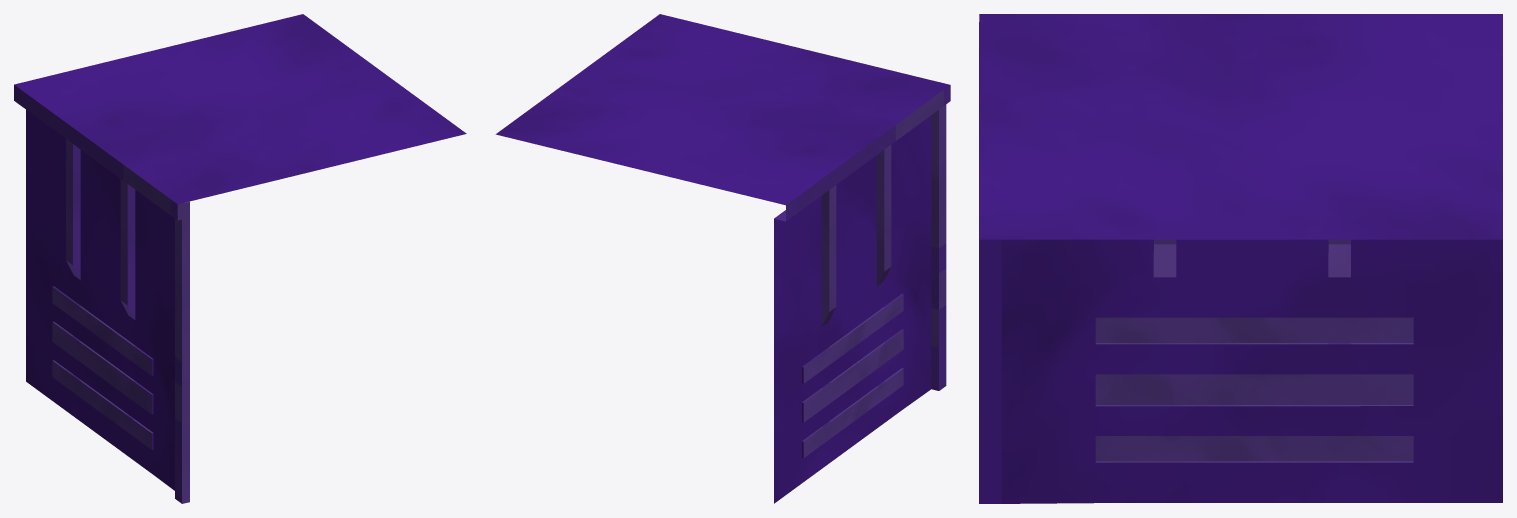
File: SM_Studio-Gate.fbx
The picture shows the model from 3 angles, left to right: view 1: azimuth 30°, elevation 25°; view 2: azimuth 150°, elevation 25°; view 3: azimuth 270°, elevation 25°; orthographic projection. The views are drawn at different scales.
Visible parts, largest first — view 1: Studio Gate; view 2: Studio Gate; view 3: Studio Gate.
Boxes of the visible parts, x1,y1,x2,y2 form: Studio Gate: (14,14,466,503); Studio Gate: (495,14,950,503); Studio Gate: (979,14,1502,503).
Size of the model in its own units: 9.49 by 9.43 by 9.32.
